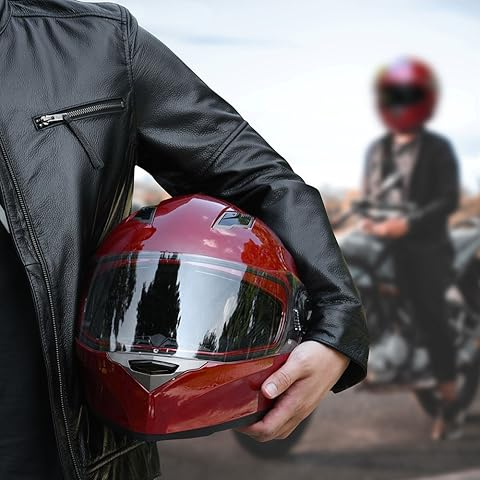helmets: (74, 195, 329, 438), (346, 44, 443, 143)
